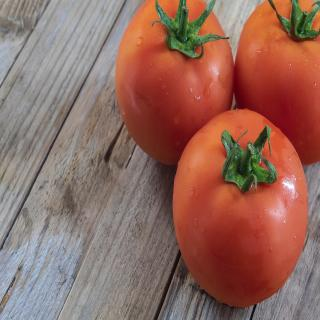Tomat: (116, 1, 236, 167), (235, 1, 320, 167)
